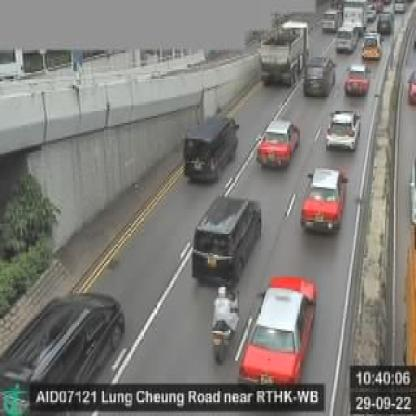Car: (0, 276, 150, 400), (231, 274, 324, 392), (187, 191, 264, 286), (178, 108, 243, 187), (296, 163, 351, 236), (252, 113, 307, 168), (320, 106, 361, 152), (299, 55, 339, 99), (343, 61, 371, 94), (359, 28, 386, 60), (334, 21, 354, 55), (373, 12, 397, 38), (320, 7, 339, 33)
Truck: (256, 16, 312, 90)
